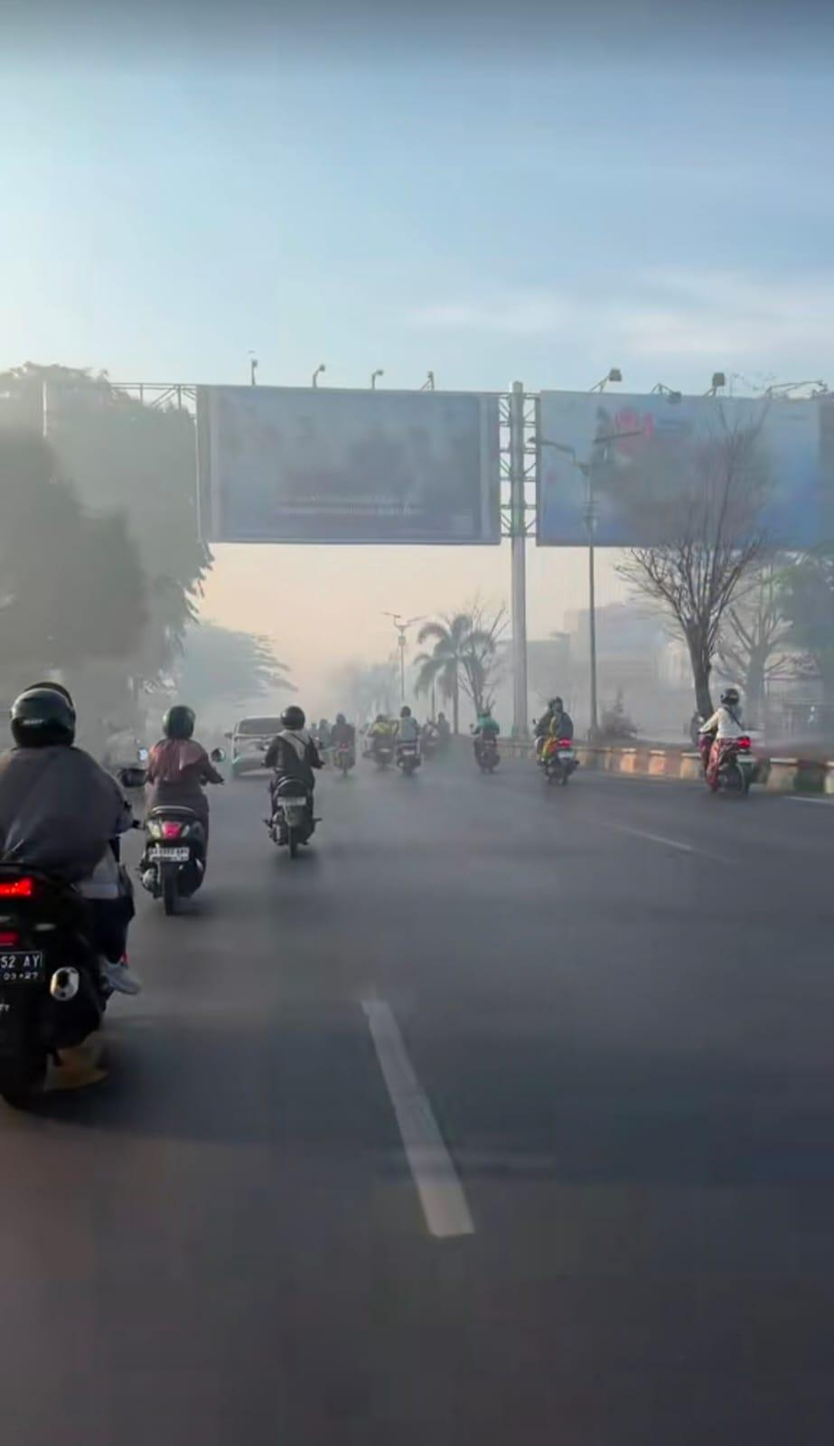Deteksi-Objek-Citra-Berasap: (0, 353, 834, 796)
Gedung: (523, 599, 834, 739)
Kendaraan: (0, 856, 136, 1110), (136, 775, 212, 916), (262, 772, 323, 858), (703, 732, 761, 800), (227, 715, 283, 779), (538, 733, 581, 788), (473, 730, 501, 775), (395, 735, 422, 778), (366, 734, 394, 775), (332, 737, 356, 781)
Manusia: (0, 681, 139, 999), (143, 705, 225, 856), (263, 704, 324, 836), (698, 689, 749, 771), (533, 696, 576, 766), (470, 704, 502, 749), (395, 704, 421, 756), (330, 712, 356, 755), (368, 714, 397, 750), (423, 712, 443, 751)
Vegetasi: (0, 360, 212, 723), (606, 435, 807, 739), (712, 540, 834, 733), (408, 604, 506, 742)
